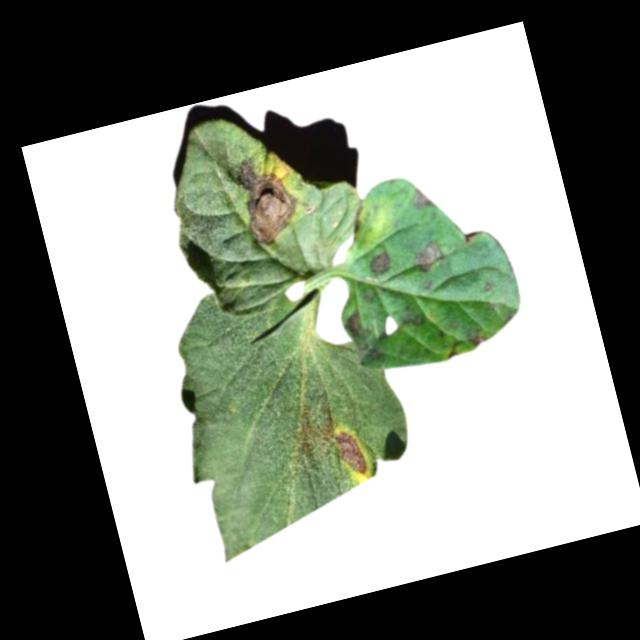Early_blight: (225, 149, 308, 250), (330, 426, 371, 479), (411, 238, 452, 277), (367, 250, 398, 277), (410, 185, 436, 213), (343, 310, 365, 339), (469, 333, 489, 349)
